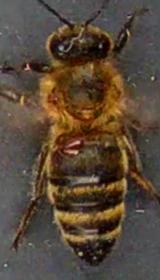varroa_mite: (62, 134, 84, 162)
